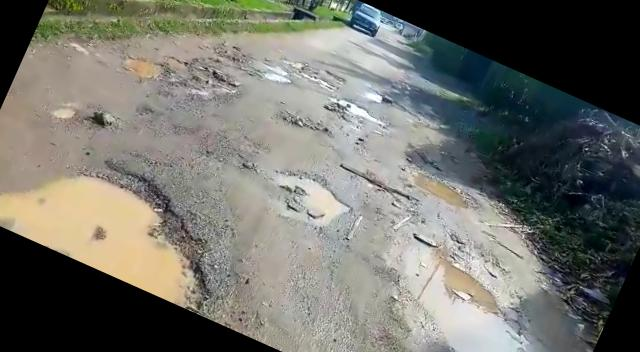pothole: (0, 111, 257, 322), (354, 231, 572, 352), (119, 33, 244, 118), (264, 161, 352, 232), (339, 163, 424, 213), (406, 164, 478, 212), (276, 105, 334, 142), (322, 92, 364, 124), (258, 66, 293, 93)
